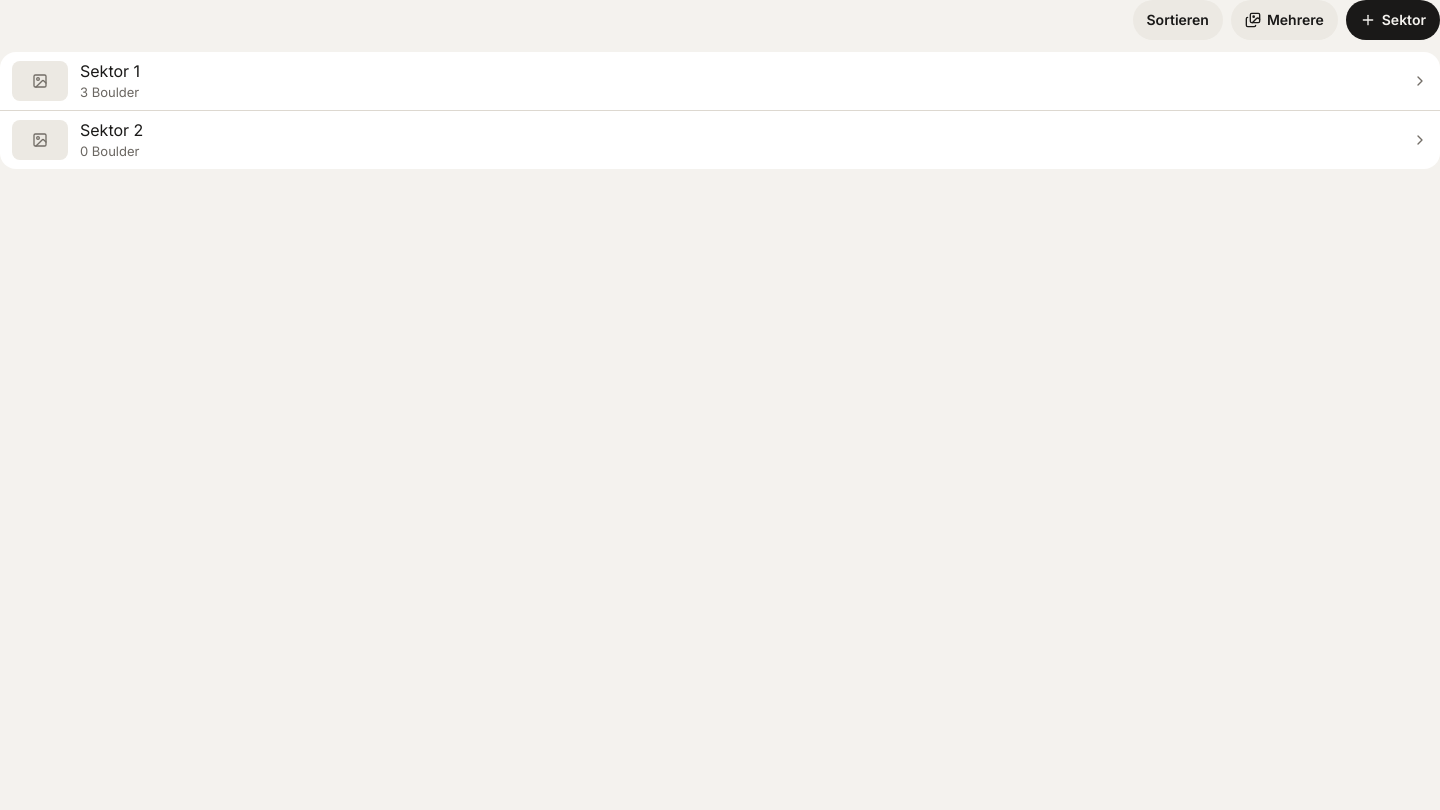
AC-4/5/6 Sektoren › Zeile zeigt Name und Boulder-Anzahl; Tippen öffnet das Sheet
Step 1. Click the button with test id "sector-row-s-1" → (40, 81), box x1=0 y1=52 x2=1439 y2=110
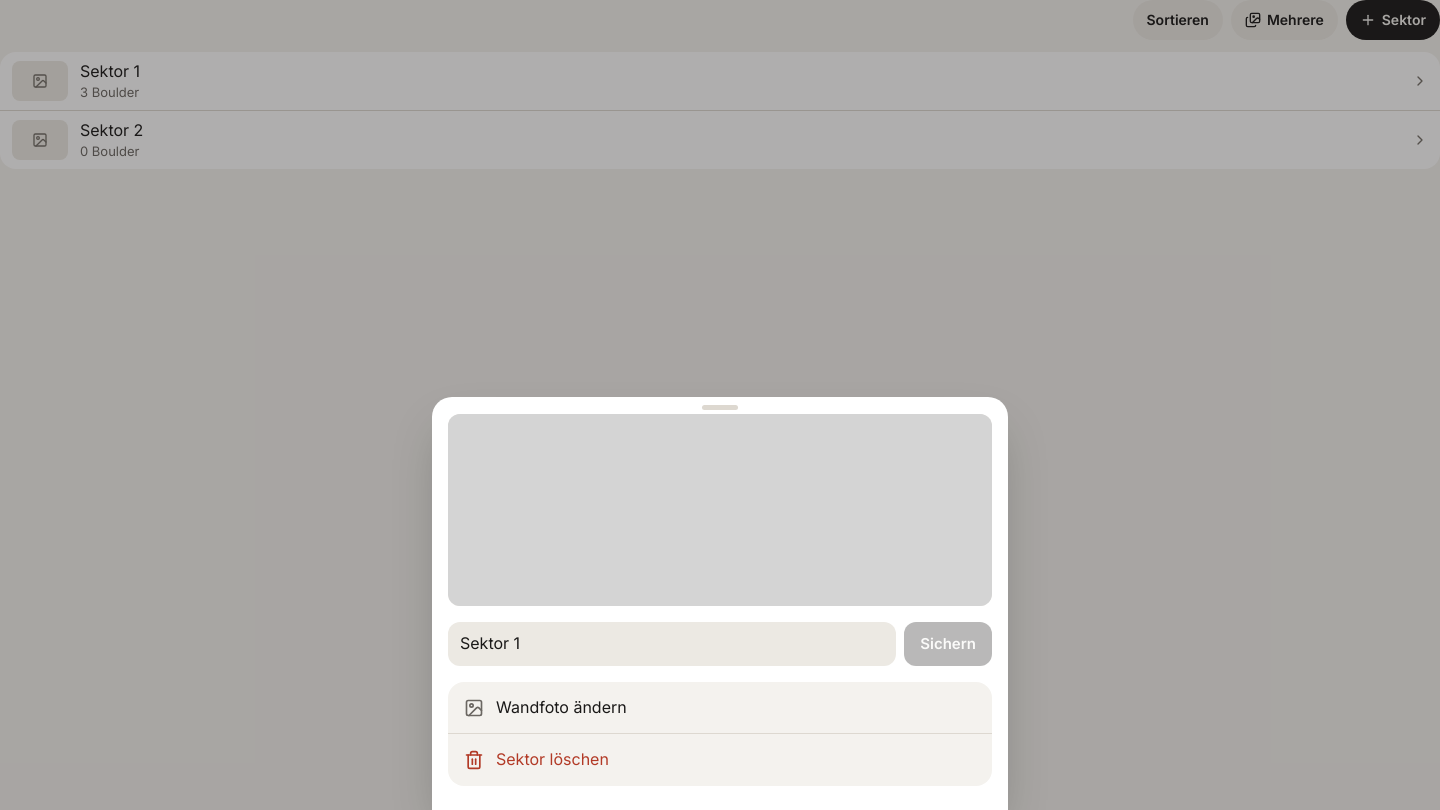
Expected: the field with test id "sector-rename-input" holds "Sektor 1", x1=448 y1=622 x2=896 y2=666
Expected: the button with test id "sector-photo-btn" is shown, x1=448 y1=682 x2=992 y2=734
